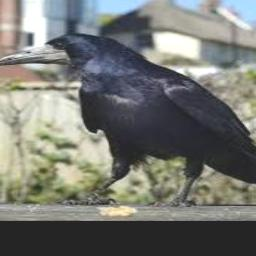Crow: (0, 31, 256, 207)
